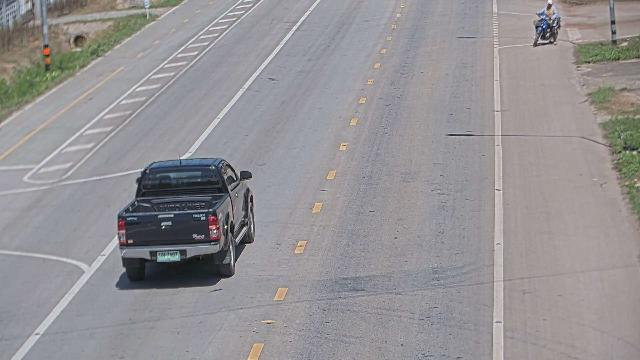motorcycle: (531, 6, 559, 46)
pickup-truck: (116, 156, 255, 281)
